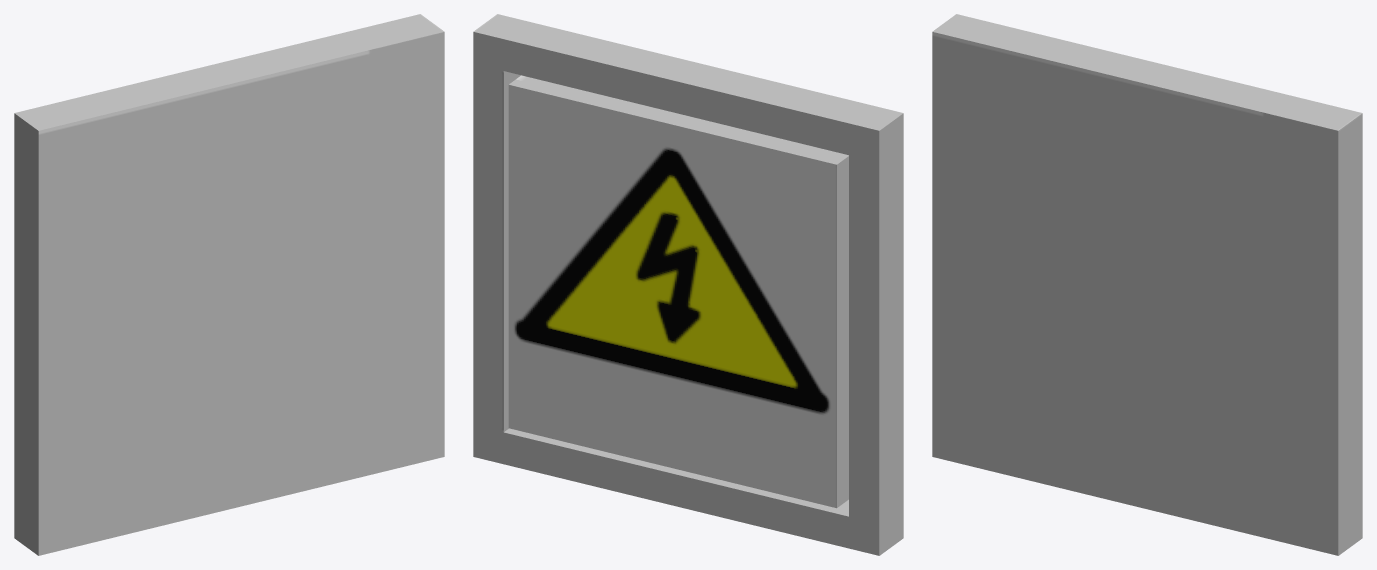
Rendered from ElectricHazardPanel.glb.
3 views of the same model, side by side, from view 1: azimuth 30°, elevation 25°; view 2: azimuth 150°, elevation 25°; view 3: azimuth 330°, elevation 25° (orthographic).
Visible parts, largest first — view 1: Cube; view 2: Cube; view 3: Cube.
Part boxes in pixels (<box>): Cube: <box>14,14,444,555</box>; Cube: <box>473,14,903,555</box>; Cube: <box>932,14,1362,555</box>.
Size of the model in its own units: 0.6728 by 0.6728 by 0.0799.
1 material, 1 textured.
